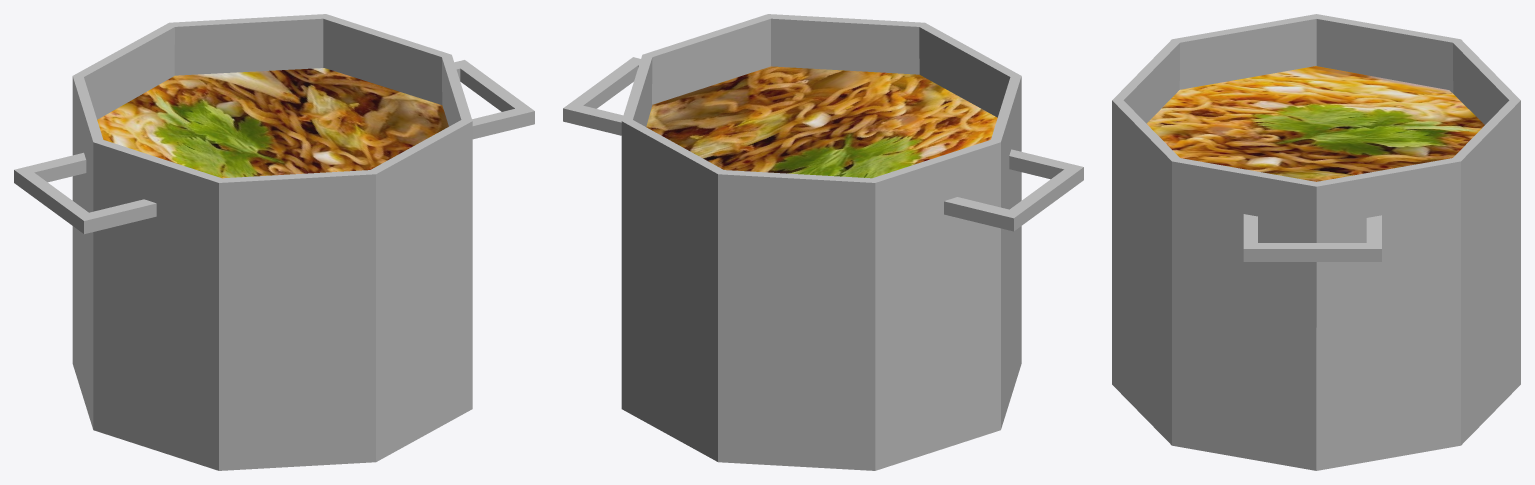
File: PANCIII MIE DADIIII.fbx
The picture shows the model from 3 angles, left to right: view 1: azimuth 30°, elevation 25°; view 2: azimuth 150°, elevation 25°; view 3: azimuth 270°, elevation 25°; orthographic projection.
Parts seen in each view (by area): view 1: Cylinder.001, Plane.001, Cube; view 2: Cylinder.001, Plane.001, Cube; view 3: Cylinder.001, Plane.001, Cube.
Boxes of the visible parts, left/top/right/bottom form: Cylinder.001: left=72, top=14, right=472, bottom=470; Plane.001: left=97, top=68, right=448, bottom=178; Cube: left=14, top=60, right=534, bottom=234; Cylinder.001: left=621, top=14, right=1021, bottom=470; Plane.001: left=646, top=66, right=997, bottom=178; Cube: left=563, top=57, right=1083, bottom=231; Cylinder.001: left=1112, top=14, right=1520, bottom=470; Plane.001: left=1146, top=66, right=1484, bottom=181; Cube: left=1243, top=214, right=1381, bottom=261.
Size of the model in its own units: 280 by 171 by 223.
